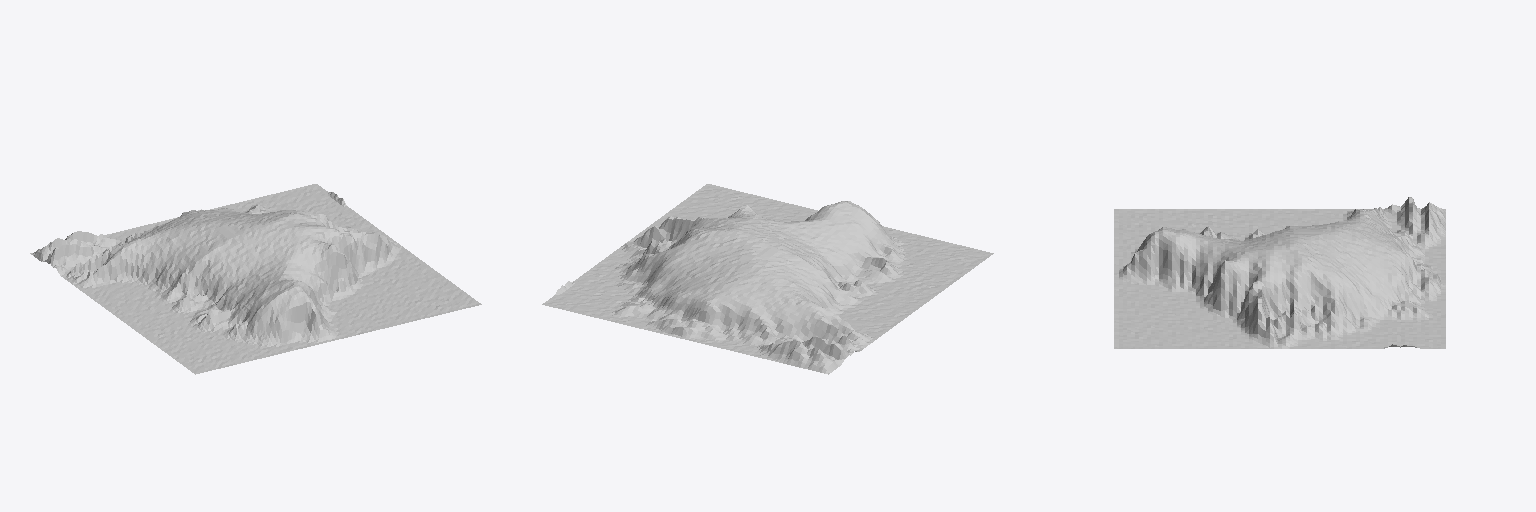
The model's file is Greenland.obj.
3 renders of one model, left to right at view 1: azimuth 30°, elevation 25°; view 2: azimuth 150°, elevation 25°; view 3: azimuth 270°, elevation 25°, orthographic.
Visible parts, largest first — view 1: Greenland_Plane.001; view 2: Greenland_Plane.001; view 3: Greenland_Plane.001.
Part boxes in pixels (bbox=[...]): Greenland_Plane.001: bbox=[30, 184, 481, 374]; Greenland_Plane.001: bbox=[542, 184, 993, 374]; Greenland_Plane.001: bbox=[1114, 197, 1445, 348].
Size of the model in its own units: 8 by 1.26 by 8.